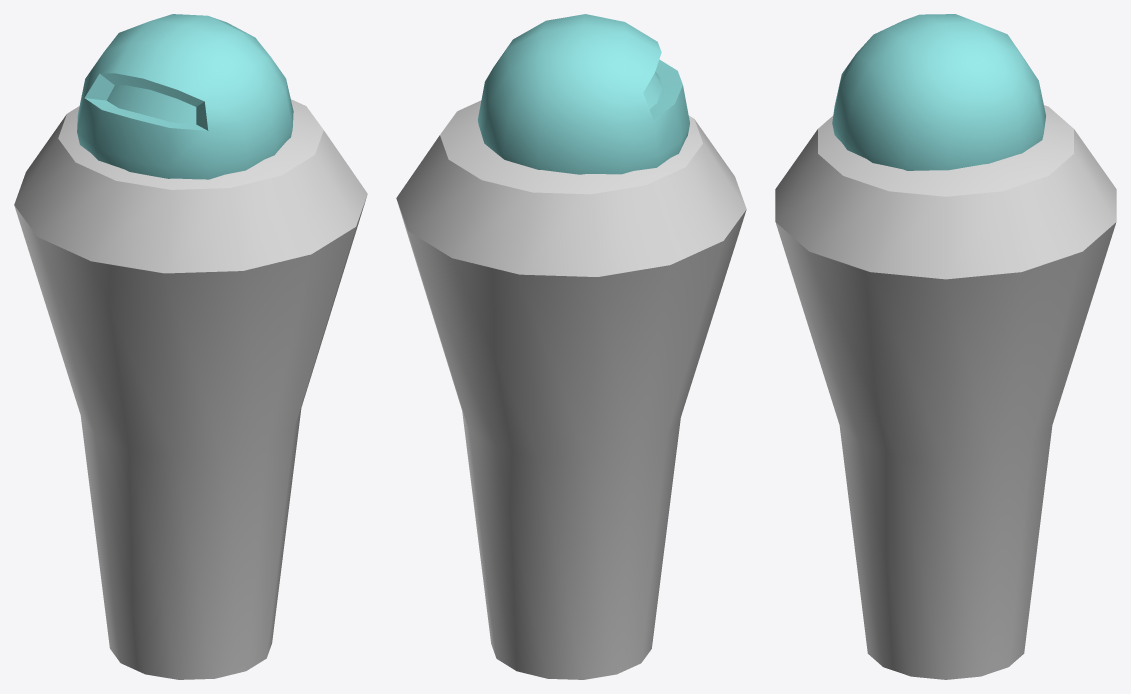
File: R_LEG.fbx
3 views of the same model, side by side, from view 1: azimuth 30°, elevation 25°; view 2: azimuth 150°, elevation 25°; view 3: azimuth 270°, elevation 25° (orthographic).
Parts seen in each view (by area): view 1: pCylinder4, pCube3; view 2: pCylinder4, pCube3; view 3: pCylinder4, pCube3.
Part boxes in pixels (x1,y1,x2,y2): pCylinder4: (14, 99, 367, 679); pCube3: (77, 14, 293, 179); pCylinder4: (396, 100, 746, 679); pCube3: (478, 14, 689, 174); pCylinder4: (775, 105, 1116, 679); pCube3: (832, 14, 1045, 170).
Size of the model in its own units: 1.05 by 2.04 by 1.02.
